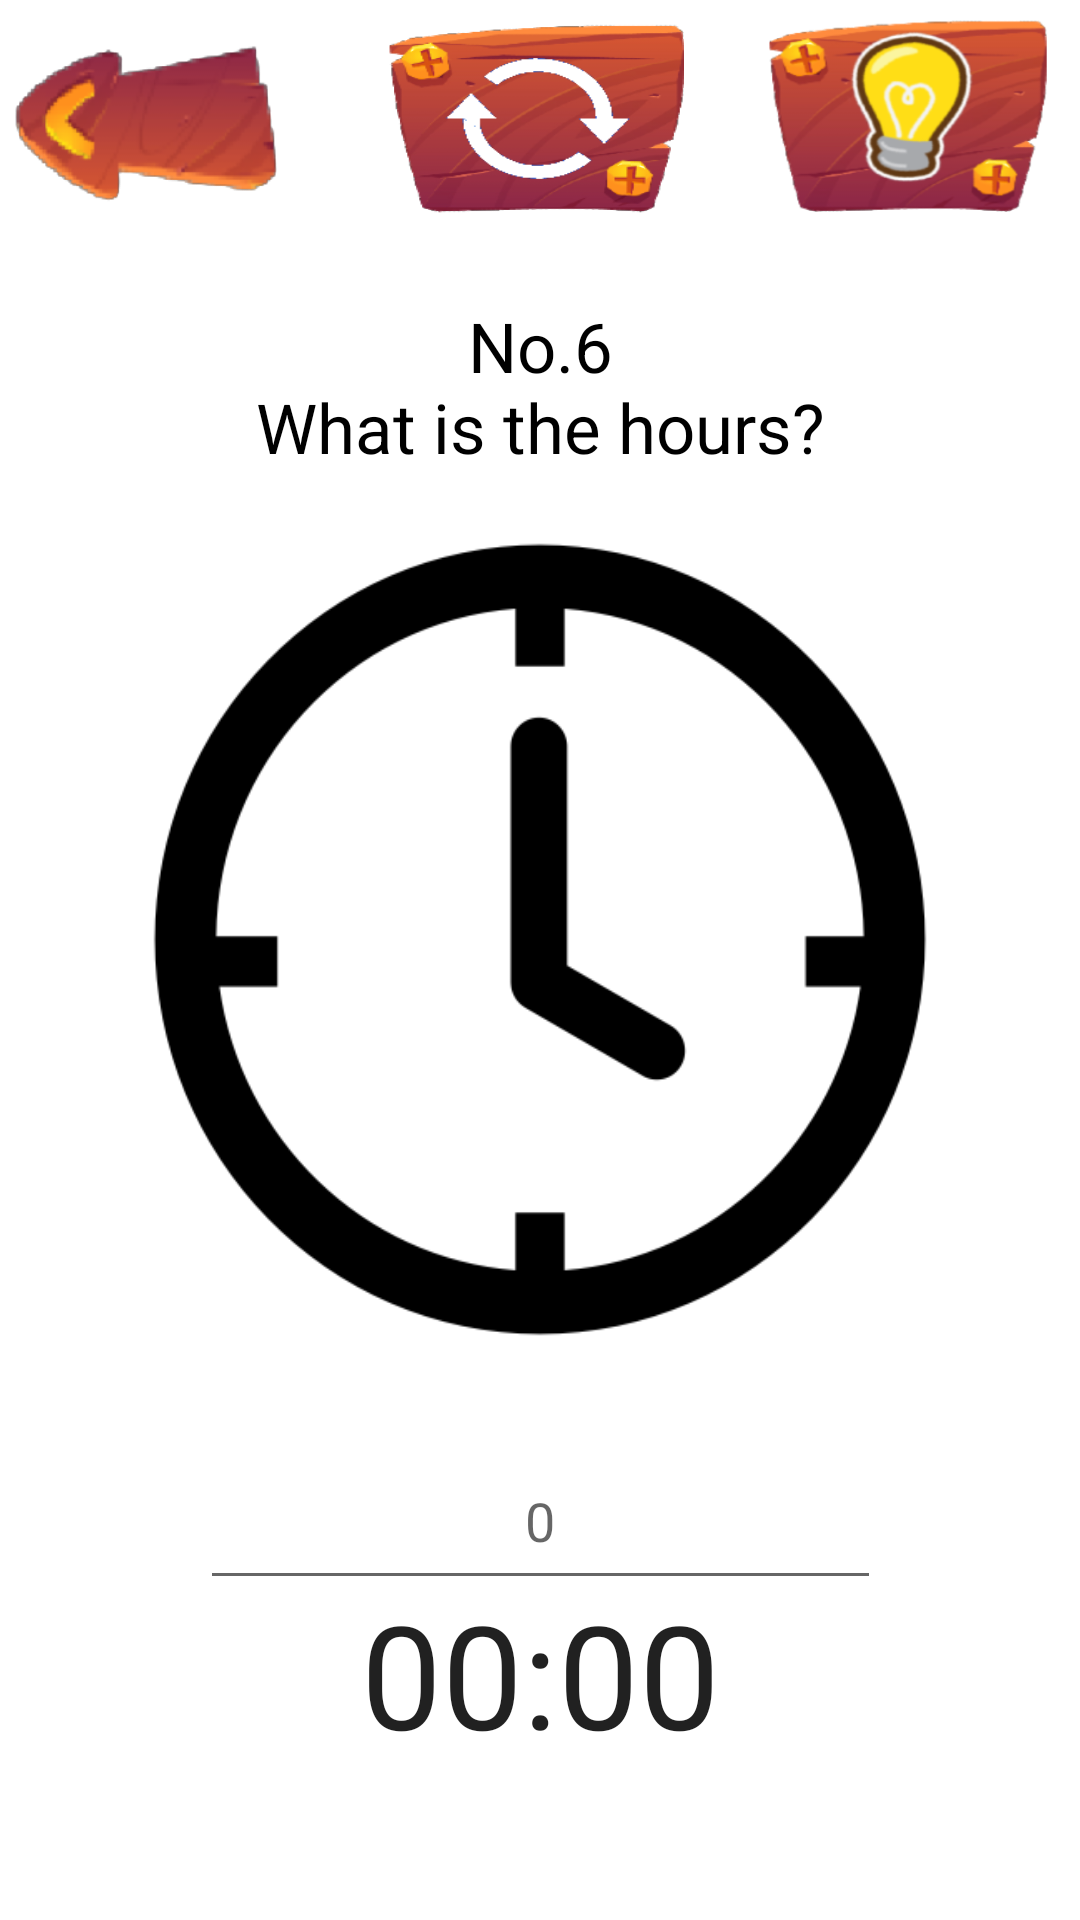

Named icons in this screenshot (1080 × 1920) and their centers, (x,y):
hint: (908,116)
restart: (536,119)
